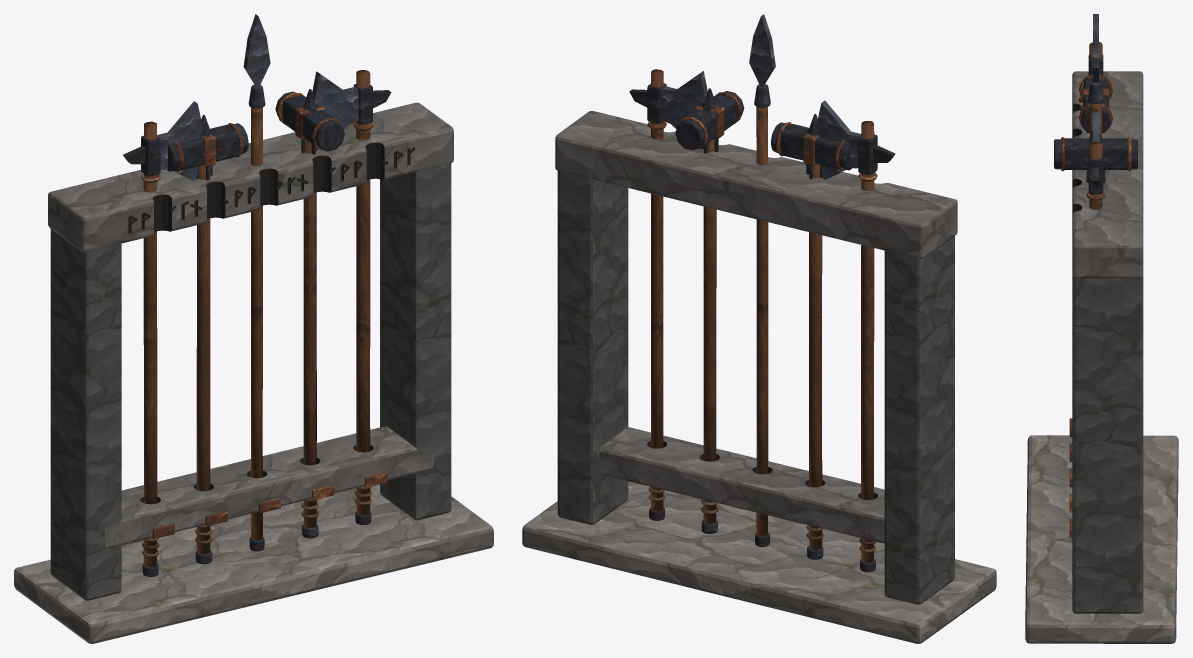
File: th_weapon_rack.glb
3 renders of one model, left to right at view 1: azimuth 30°, elevation 25°; view 2: azimuth 150°, elevation 25°; view 3: azimuth 270°, elevation 25°, orthographic. The views are drawn at different scales.
Visible parts, largest first — view 1: model; view 2: model; view 3: model.
Boxes of the visible parts, <box> form: model: <box>14,14,493,643</box>; model: <box>522,14,996,643</box>; model: <box>1025,14,1178,643</box>.
Size of the model in its own units: 1.53 by 2 by 0.5185.
10 materials, 9 textured.
